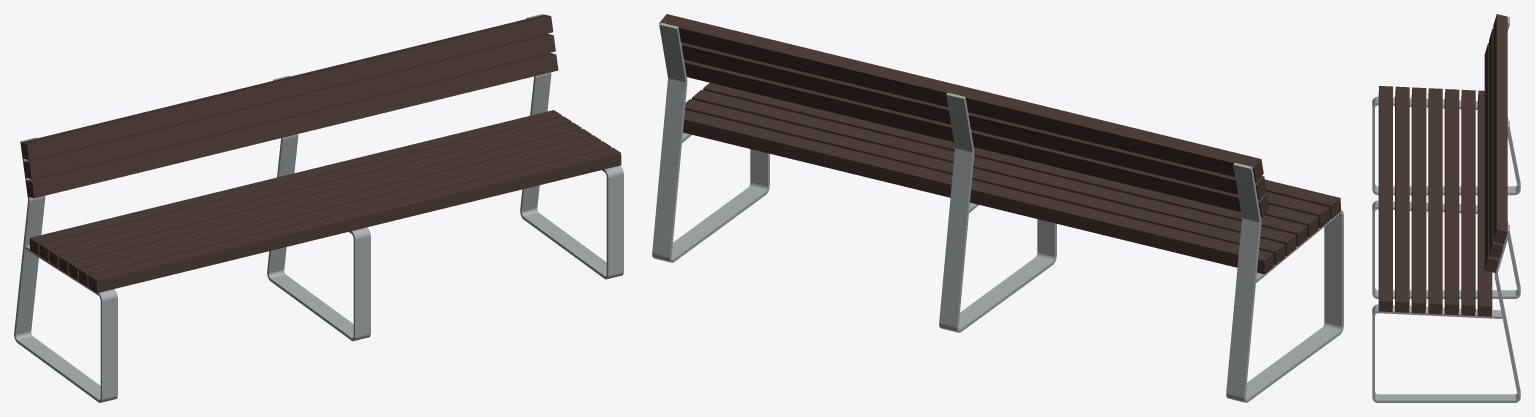
File: K7_noArmrests.glb
The picture shows the model from 3 angles, left to right: view 1: azimuth 30°, elevation 25°; view 2: azimuth 150°, elevation 25°; view 3: azimuth 270°, elevation 25°; orthographic projection. The views are drawn at different scales.
Visible parts, largest first — view 1: K7_noArmrests; view 2: K7_noArmrests; view 3: K7_noArmrests.
Part boxes in pixels (<box>): K7_noArmrests: <box>14,14,623,402</box>; K7_noArmrests: <box>652,14,1343,402</box>; K7_noArmrests: <box>1372,14,1520,402</box>.
Bounding box in the file's own units: 2 × 0.7547 × 0.5816.
